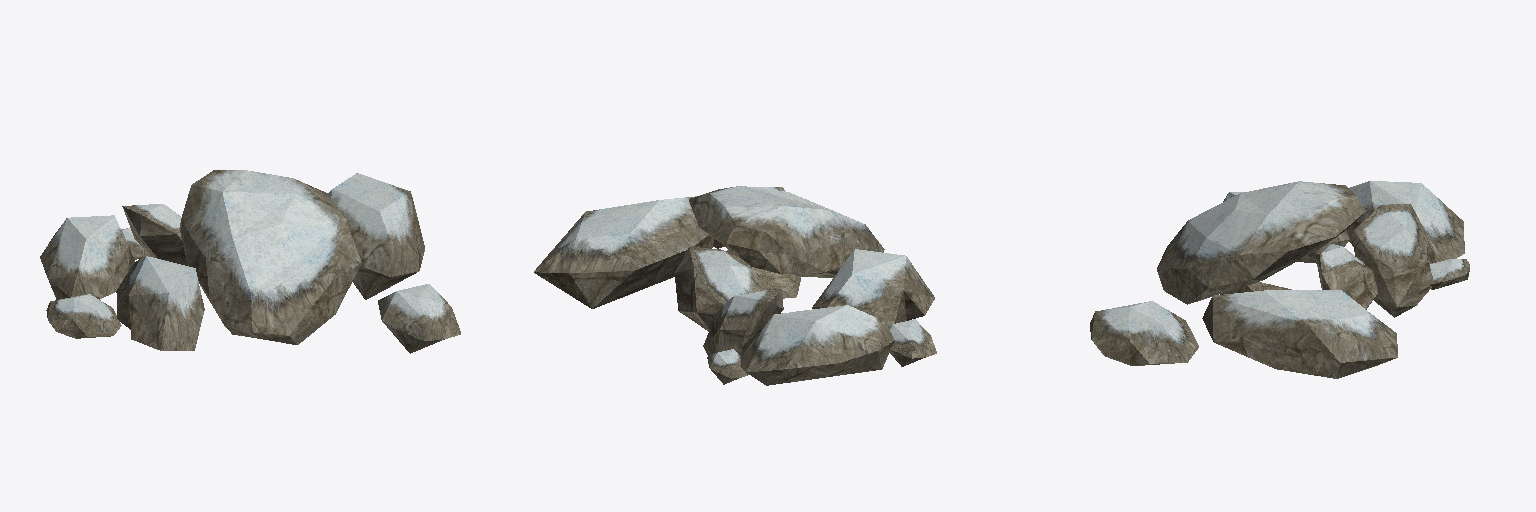
3 renders of one model, left to right at view 1: azimuth 30°, elevation 25°; view 2: azimuth 150°, elevation 25°; view 3: azimuth 270°, elevation 25°, orthographic.
Parts seen in each view (by area): view 1: C1SNOUTCROPSN; view 2: C1SNOUTCROPSN; view 3: C1SNOUTCROPSN.
Boxes of the visible parts, x1=… form: C1SNOUTCROPSN: x1=40, y1=170, x2=460, y2=353; C1SNOUTCROPSN: x1=534, y1=186, x2=936, y2=385; C1SNOUTCROPSN: x1=1090, y1=181, x2=1469, y2=378.
Bounding box in the file's own units: 39.03 × 12.77 × 34.9.
Materials: 2 (2 with a texture image).